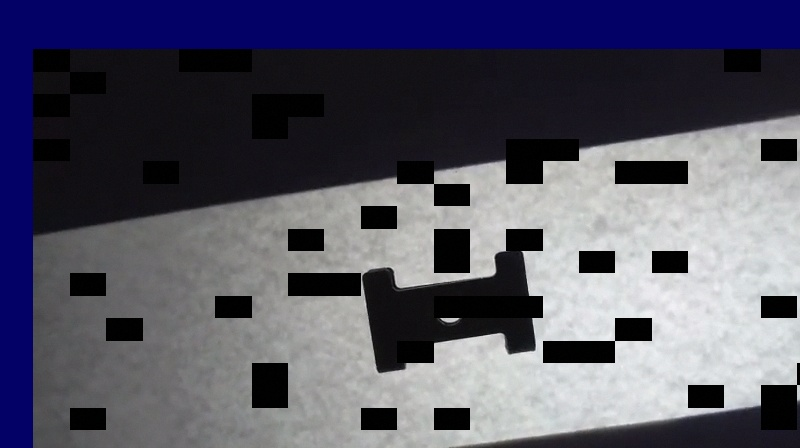O002: (360, 248, 540, 374)
